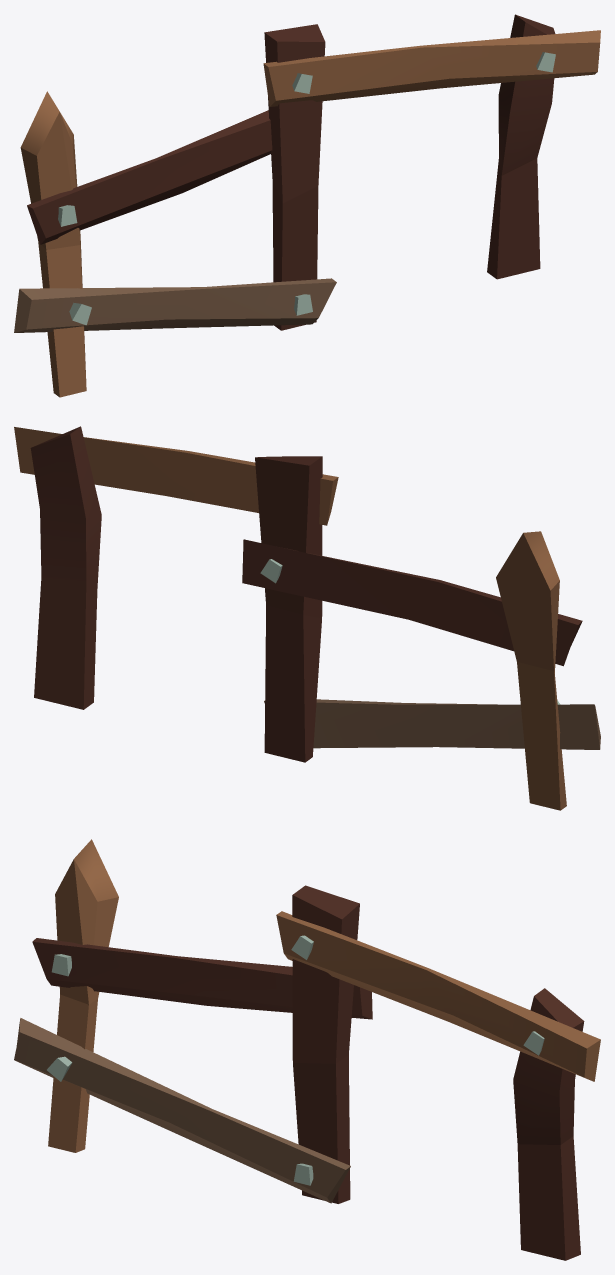
File: SM_L_Fence.fbx
3 renders of one model, top to bottom at view 1: azimuth 30°, elevation 25°; view 2: azimuth 150°, elevation 25°; view 3: azimuth 330°, elevation 25°, orthographic. The views are drawn at different scales.
Parts seen in each view (by area): view 1: SM_L_Fence; view 2: SM_L_Fence; view 3: SM_L_Fence.
Part boxes in pixels (<box>): SM_L_Fence: <box>14,14,600,397</box>; SM_L_Fence: <box>14,426,600,810</box>; SM_L_Fence: <box>14,839,600,1260</box>.
Size of the model in its own units: 70.19 by 33.92 by 8.29.
